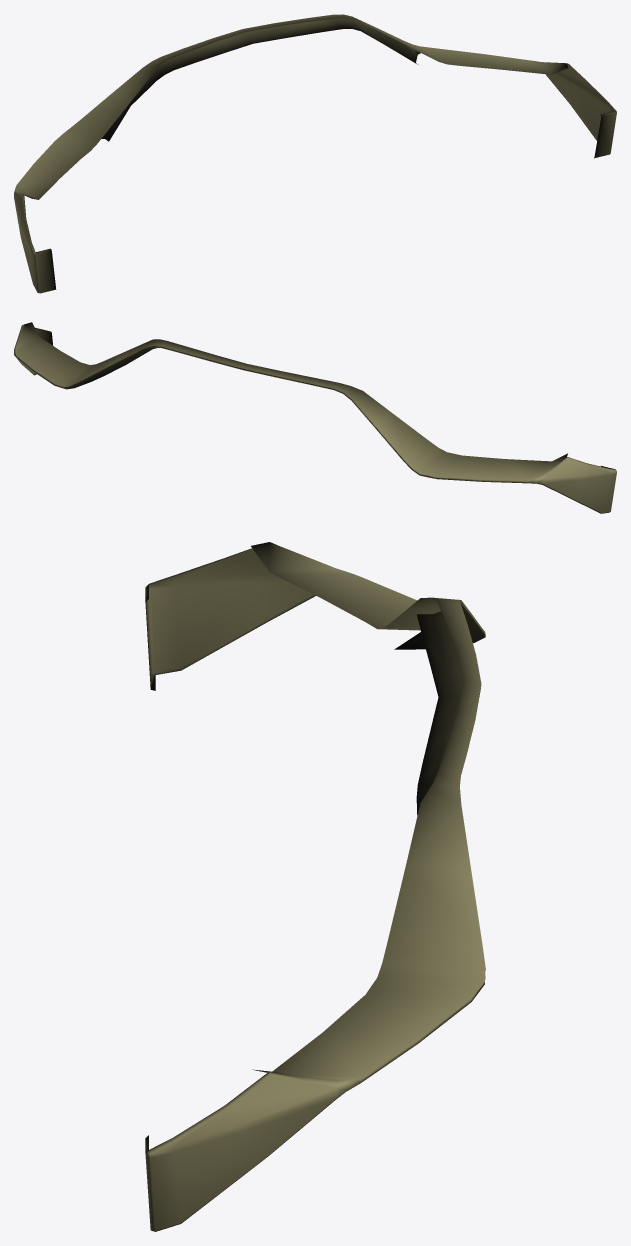
File: Aventador_RB_Duco.fbx
The picture shows the model from 3 angles, top to bottom: view 1: azimuth 30°, elevation 25°; view 2: azimuth 150°, elevation 25°; view 3: azimuth 270°, elevation 25°; orthographic projection. The views are drawn at different scales.
Visible parts, largest first — view 1: Aventador_RB_Duco; view 2: Aventador_RB_Duco; view 3: Aventador_RB_Duco.
Boxes of the visible parts, x1,y1,x2,y2 form: Aventador_RB_Duco: [14, 14, 616, 293]; Aventador_RB_Duco: [14, 322, 616, 513]; Aventador_RB_Duco: [145, 542, 485, 1231].
Size of the model in its own units: 196 by 43.55 by 49.5.
